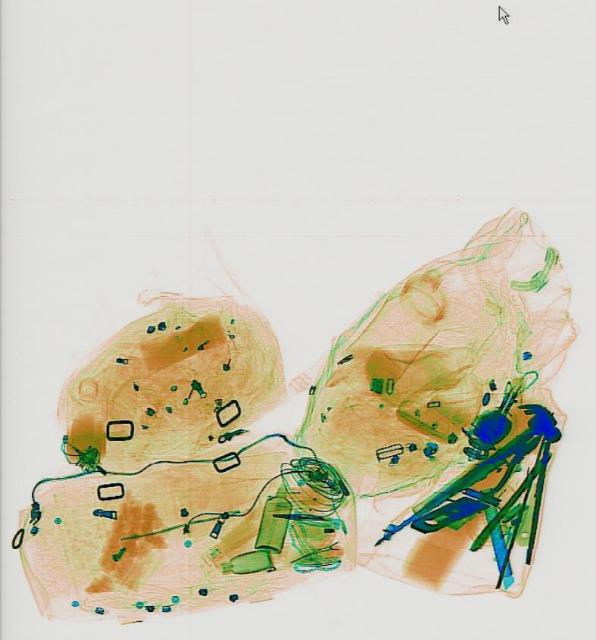Pliers: (449, 417, 547, 509)
